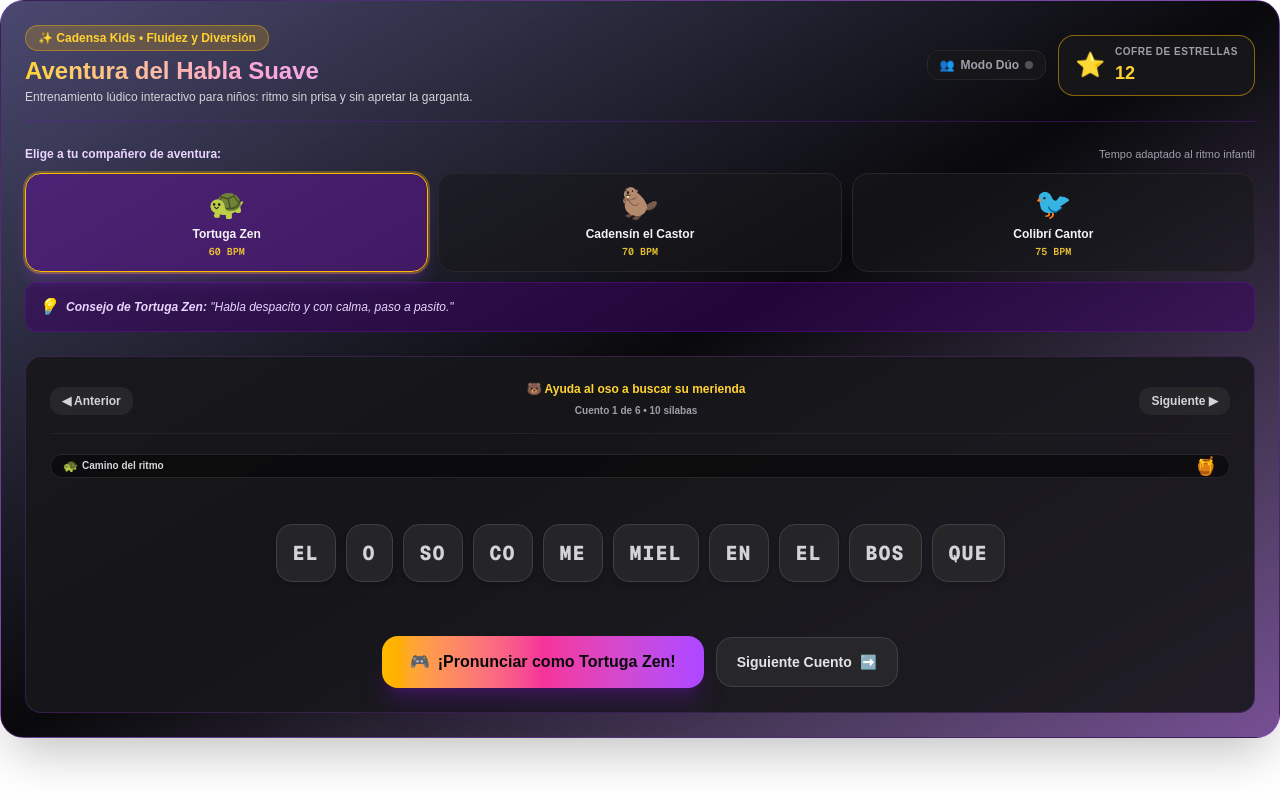
it: PediatricFluencyTrainer Component › permite cambiar de avatar y actualiza el consejo y tempo
The width and height of the screenshot is (1280, 800).
Click the button "🦫 Cadensín el Castor 70 BPM" at (640, 222), box [438,172,842,272]
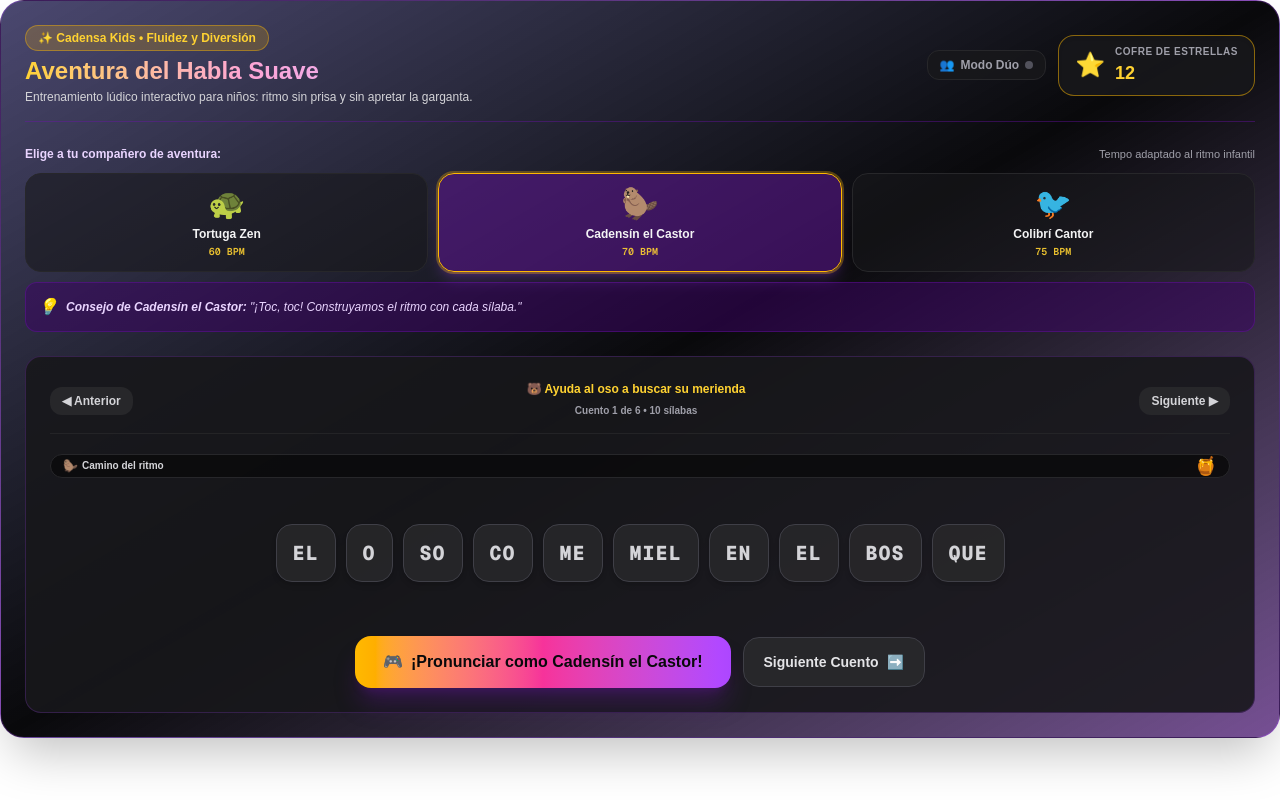
Expected: the text "Construyamos el ritmo con cada sílaba" is shown, [254,300,517,314]
Expected: the button "🎮 ¡Pronunciar como Cadensín el Castor!" is shown, [355,636,730,688]
